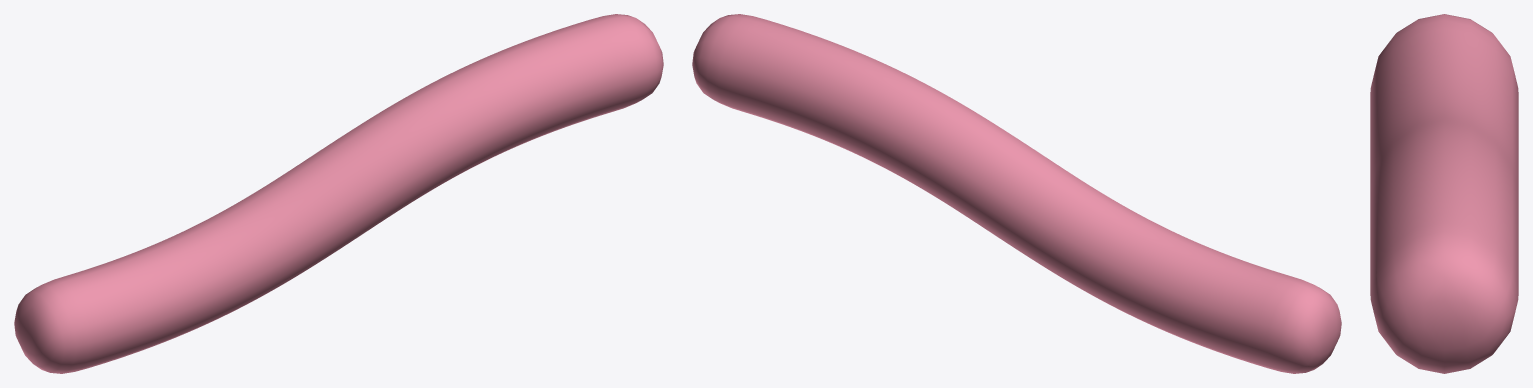
File: DefaultCube.glb
3 views of the same model, side by side, from view 1: azimuth 30°, elevation 25°; view 2: azimuth 150°, elevation 25°; view 3: azimuth 270°, elevation 25° (orthographic). The views are drawn at different scales.
Parts seen in each view (by area): view 1: BezierCurve; view 2: BezierCurve; view 3: BezierCurve.
Part boxes in pixels (x1=…): BezierCurve: x1=14, y1=14, x2=663, y2=373; BezierCurve: x1=692, y1=14, x2=1341, y2=373; BezierCurve: x1=1370, y1=14, x2=1518, y2=373.
Size of the model in its own units: 1.99 by 0.657 by 0.2667.
